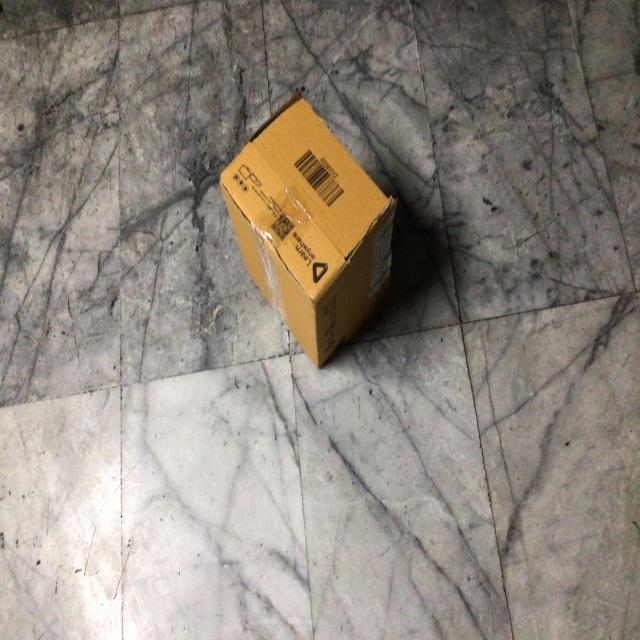cardboard: (224, 96, 403, 366)
